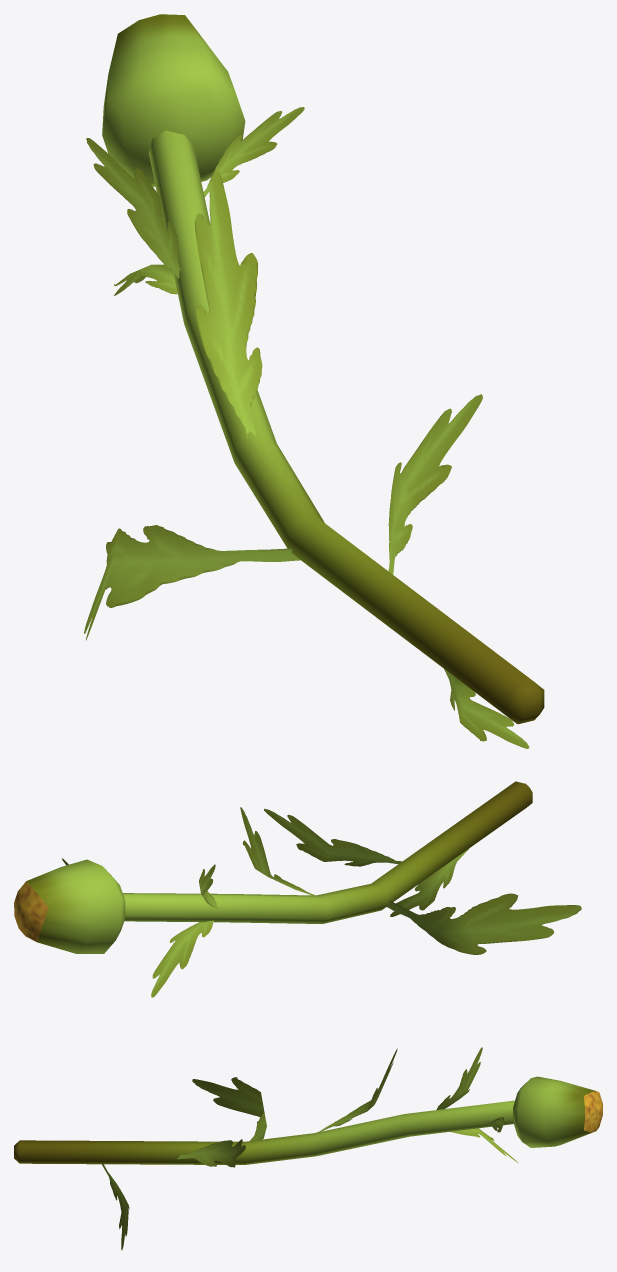
The model's file is SM_Daisy_Closed.fbx.
3 views of the same model, one above another, from view 1: azimuth 30°, elevation 25°; view 2: azimuth 150°, elevation 25°; view 3: azimuth 270°, elevation 25° (orthographic). The views are drawn at different scales.
Visible parts, largest first — view 1: Daisy_Closed; view 2: Daisy_Closed; view 3: Daisy_Closed.
Boxes of the visible parts, x1=… form: Daisy_Closed: x1=84, y1=14, x2=544, y2=748; Daisy_Closed: x1=14, y1=781, x2=581, y2=997; Daisy_Closed: x1=14, y1=1047, x2=602, y2=1250.
Bounding box in the file's own units: 32.5 × 23.43 × 59.93.
